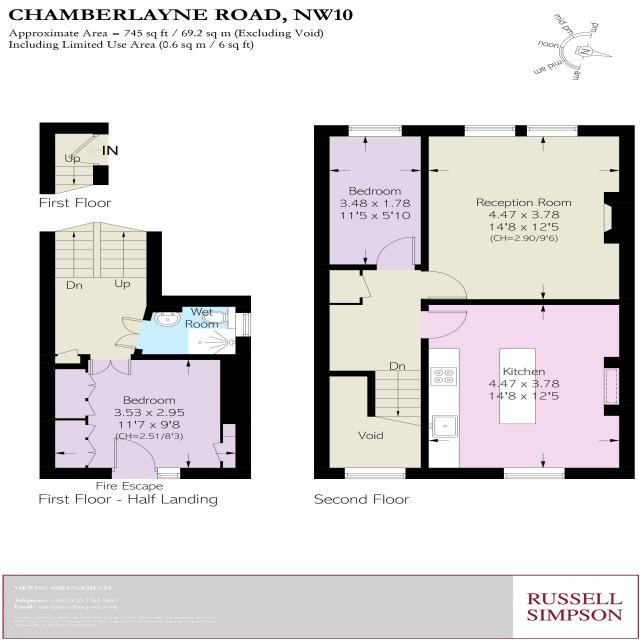DOOR: (111, 437, 158, 479), (419, 310, 470, 340), (420, 270, 470, 300), (375, 236, 417, 271)
DOUBLE DOOR: (88, 358, 132, 376)
ROOM: (420, 299, 635, 480), (420, 125, 636, 305), (39, 354, 252, 479), (314, 125, 429, 270)
WINDOW: (501, 467, 566, 480), (343, 467, 407, 480), (347, 124, 403, 137), (525, 124, 580, 137), (463, 124, 517, 137), (235, 312, 252, 337), (157, 467, 181, 480)
